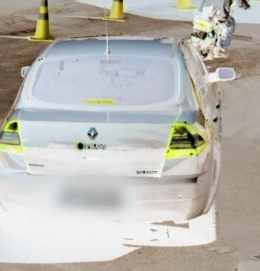car: (2, 35, 240, 252)
